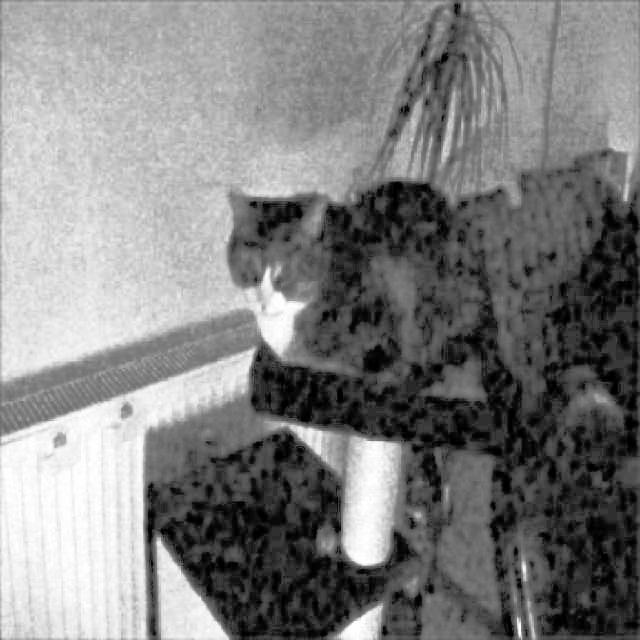Cat: (218, 155, 491, 380)
